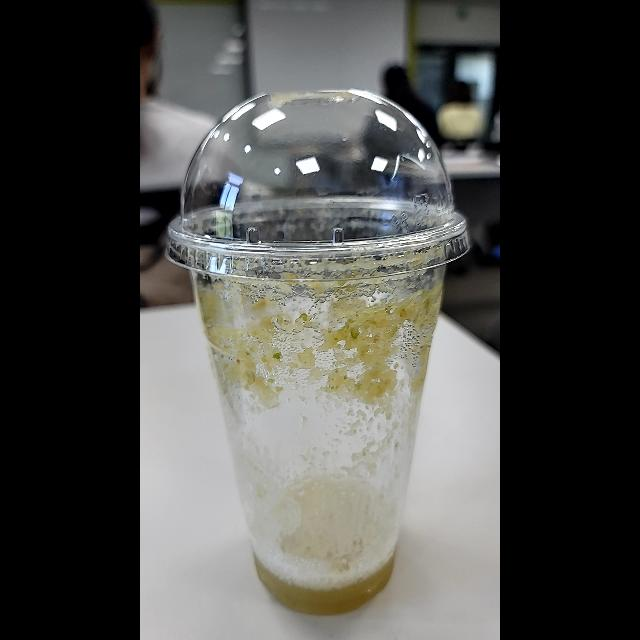plastic_cup: (159, 87, 471, 618)
plastic_cup_lid: (158, 83, 480, 284)
